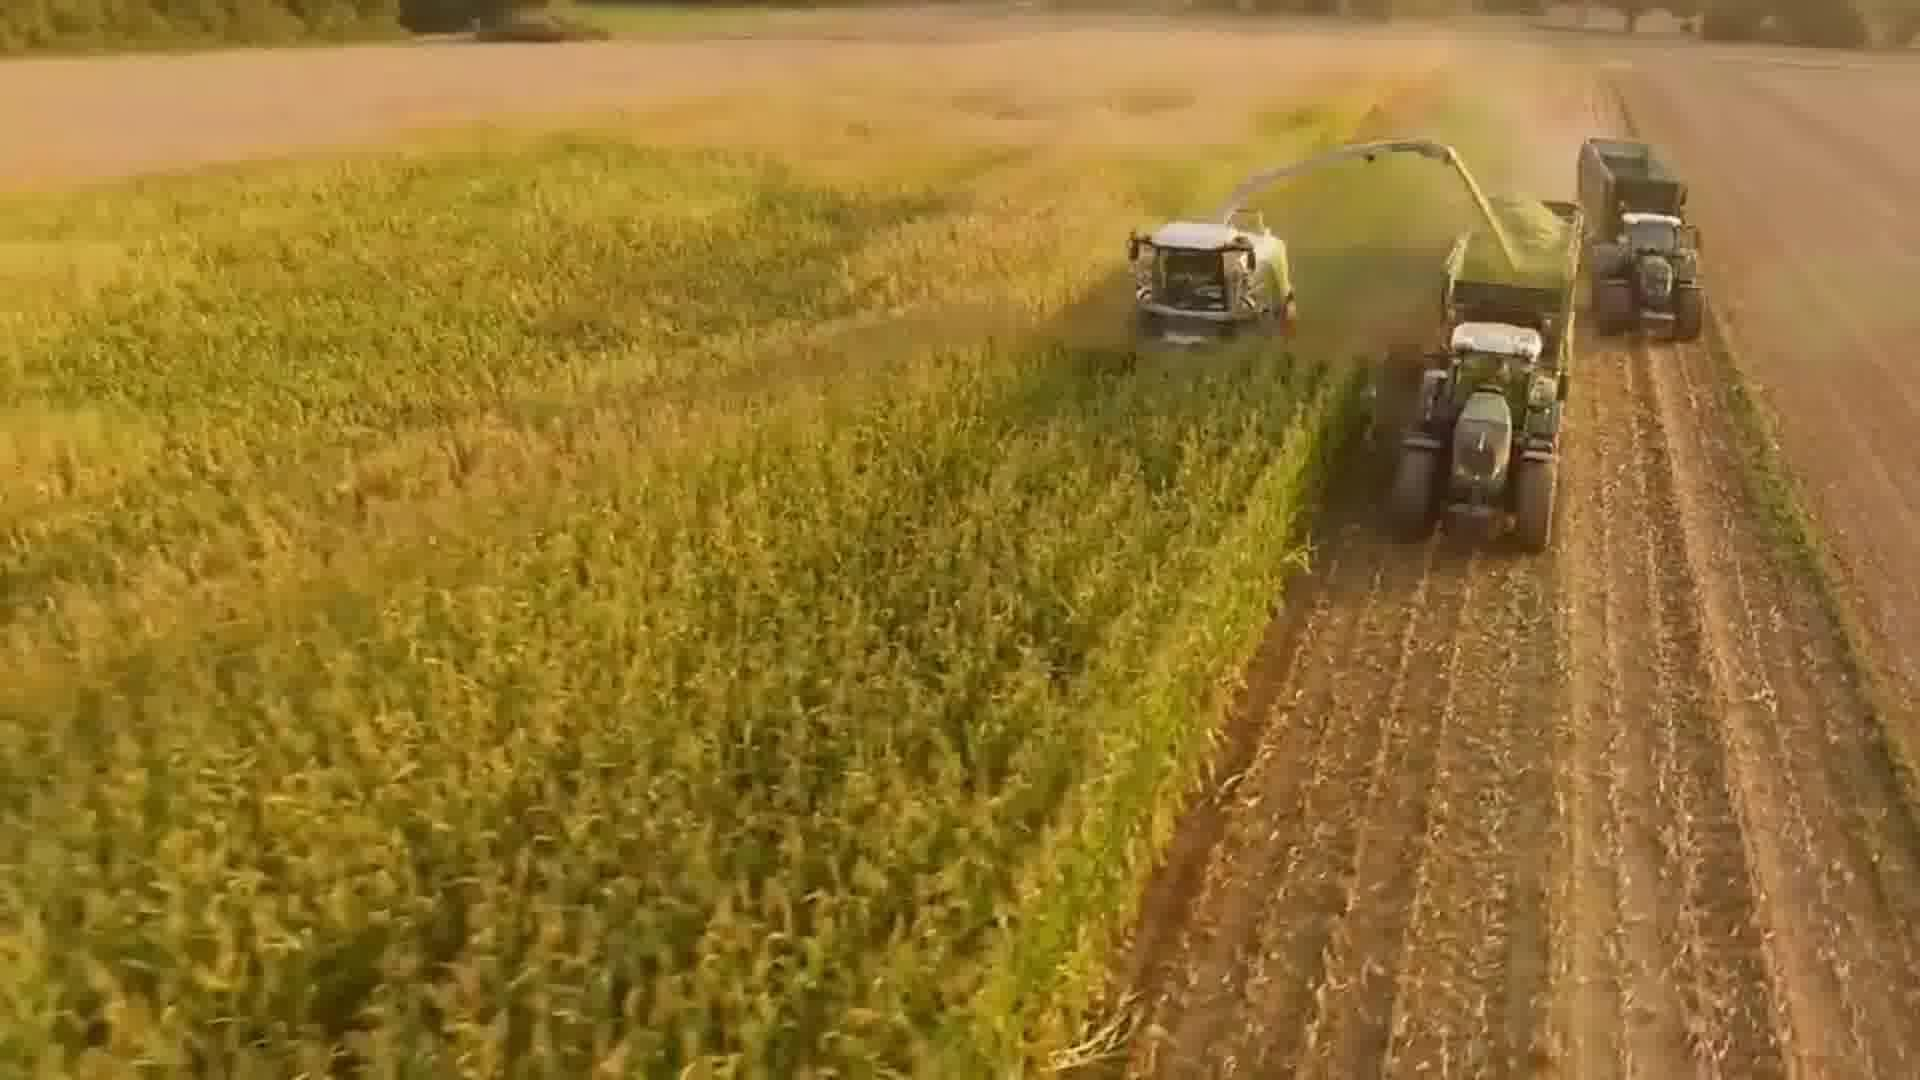combine harvester: (1118, 132, 1461, 388)
tractor: (1387, 315, 1575, 560), (1588, 208, 1712, 344)
trailer: (1441, 187, 1578, 349), (1567, 128, 1695, 228)
